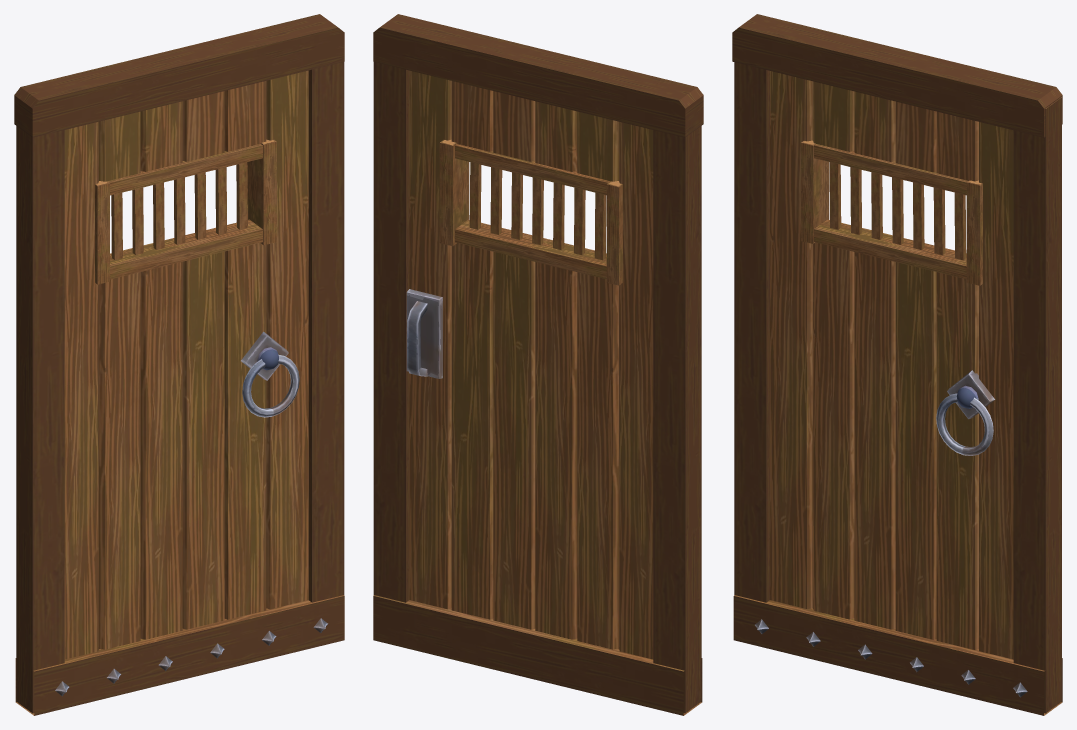
Rendered from Door_8_Flat.glb.
3 views of the same model, side by side, from view 1: azimuth 30°, elevation 25°; view 2: azimuth 150°, elevation 25°; view 3: azimuth 330°, elevation 25° (orthographic).
Visible parts, largest first — view 1: Door_8_Flat; view 2: Door_8_Flat; view 3: Door_8_Flat.
Boxes of the visible parts, x1,y1,x2,y2 form: Door_8_Flat: (14, 14, 344, 715); Door_8_Flat: (373, 14, 703, 715); Door_8_Flat: (732, 14, 1062, 715).
Bounding box in the file's own units: 1.12 × 2.1 × 0.1994.
Materials: 2 (2 with a texture image).
